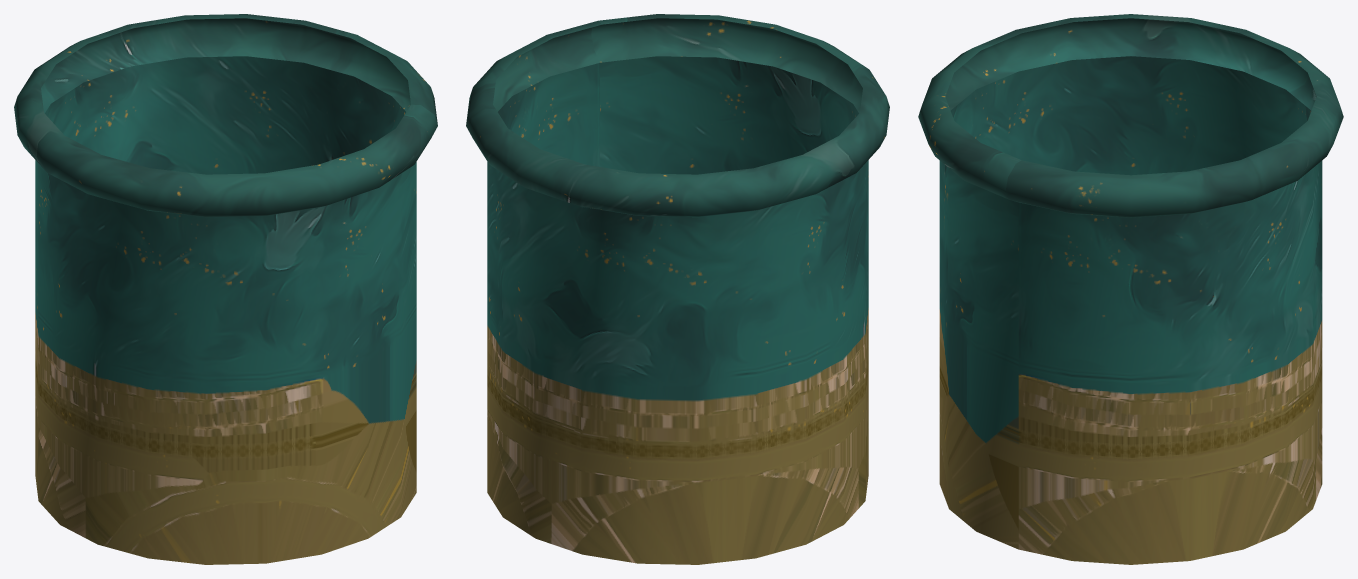
File: World_Pillar_B.fbx
The picture shows the model from 3 angles, left to right: view 1: azimuth 30°, elevation 25°; view 2: azimuth 150°, elevation 25°; view 3: azimuth 270°, elevation 25°; orthographic projection.
Parts seen in each view (by area): view 1: Cylinder.005; view 2: Cylinder.005; view 3: Cylinder.005.
Boxes of the visible parts, left/top/right/bottom form: Cylinder.005: left=14, top=14, right=437, bottom=564; Cylinder.005: left=466, top=14, right=889, bottom=564; Cylinder.005: left=918, top=14, right=1343, bottom=564.
Bounding box in the file's own units: 186 × 187 × 186.
